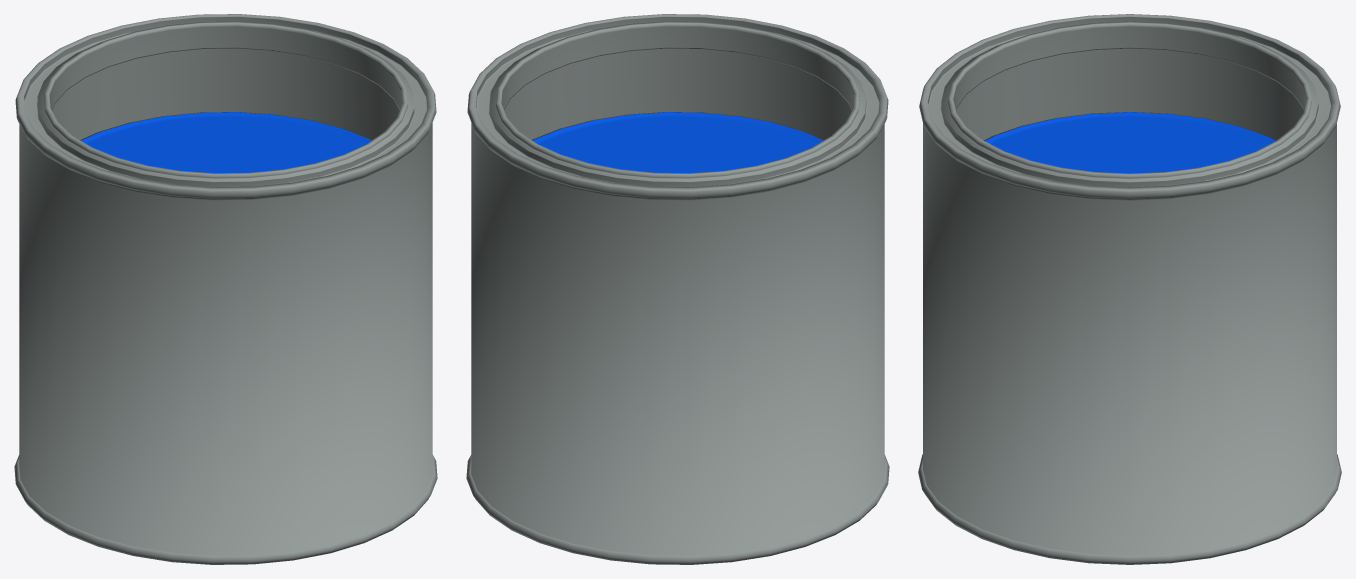
The model's file is poti3.fbx.
3 views of the same model, side by side, from view 1: azimuth 30°, elevation 25°; view 2: azimuth 150°, elevation 25°; view 3: azimuth 270°, elevation 25° (orthographic).
Visible parts, largest first — view 1: Paint.001; view 2: Paint.001; view 3: Paint.001.
Part boxes in pixels (x1,y1,x2,y2): Paint.001: (14, 14, 437, 564); Paint.001: (466, 14, 889, 564); Paint.001: (918, 14, 1341, 564).
Size of the model in its own units: 205 by 202 by 205.
